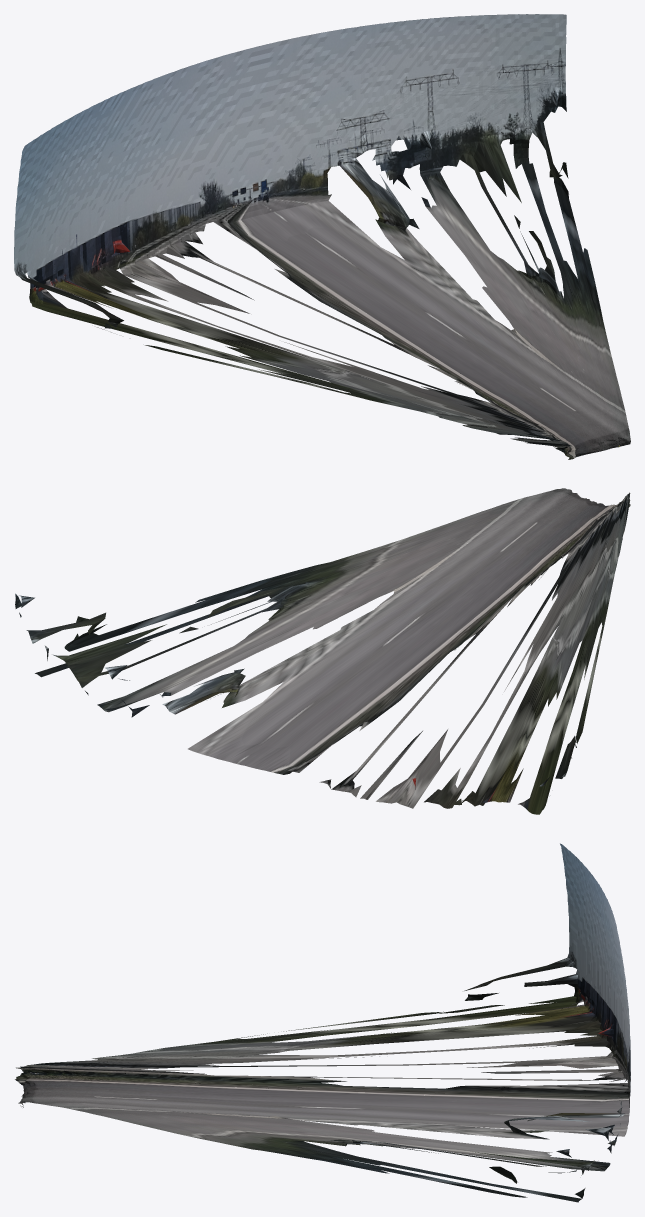
3 views of the same model, one above another, from view 1: azimuth 30°, elevation 25°; view 2: azimuth 150°, elevation 25°; view 3: azimuth 270°, elevation 25° (orthographic). The views are drawn at different scales.
Visible parts, largest first — view 1: defaultobject; view 2: defaultobject; view 3: defaultobject.
Part boxes in pixels (box(x1,y1,x2,y2)): defaultobject: box(14, 14, 630, 459); defaultobject: box(15, 488, 630, 814); defaultobject: box(15, 843, 630, 1202).
Bounding box in the file's own units: 41.09 × 13.48 × 44.82.
1 material, 1 textured.
